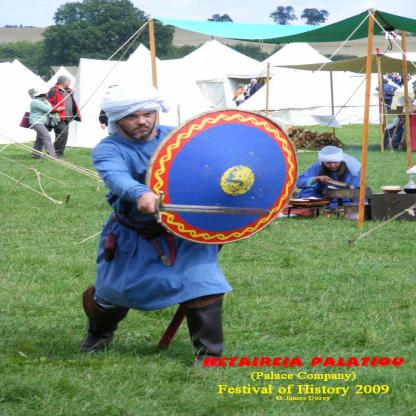face: (118, 109, 157, 139), (323, 160, 342, 172), (66, 79, 72, 89), (242, 86, 245, 91)
